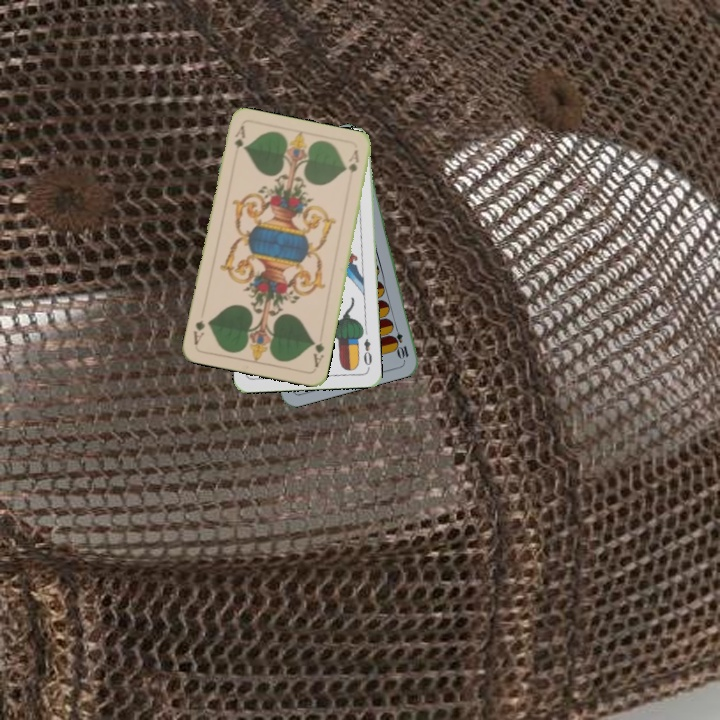E10: (389, 321, 411, 361)
EO: (360, 335, 375, 371)
GA: (231, 122, 248, 162), (309, 337, 327, 370)
